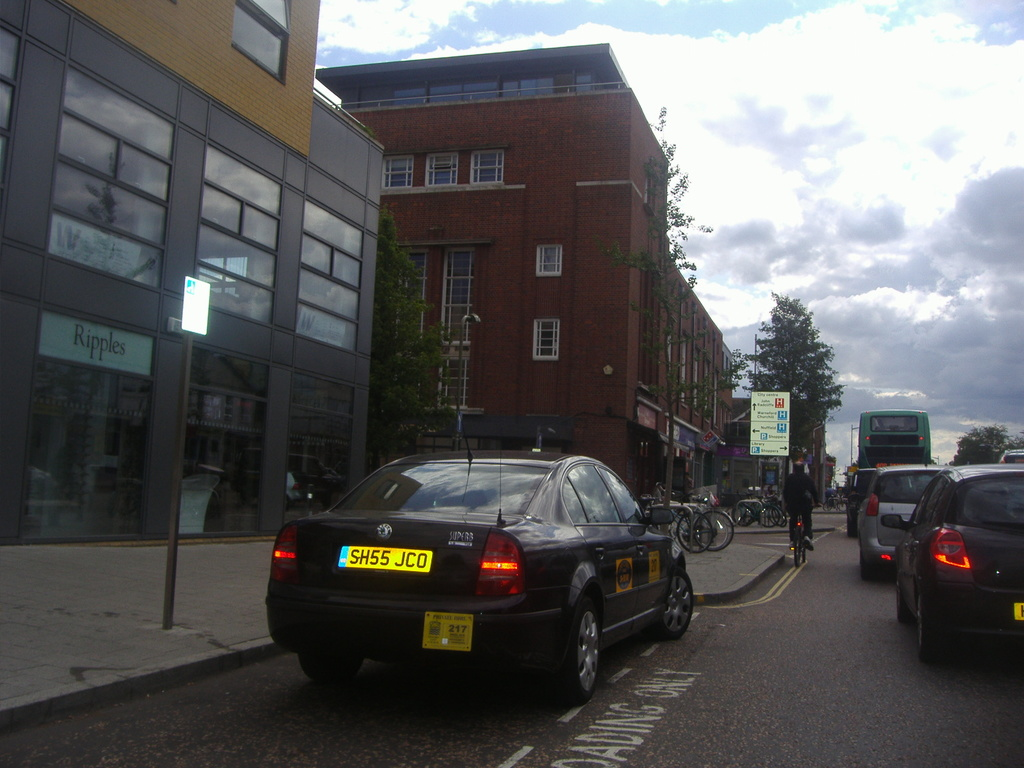license plate: (338, 538, 433, 566)
